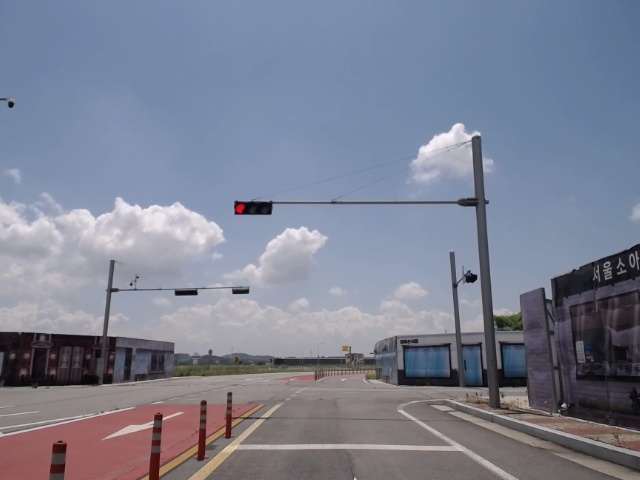red_3: (233, 200, 274, 215)
